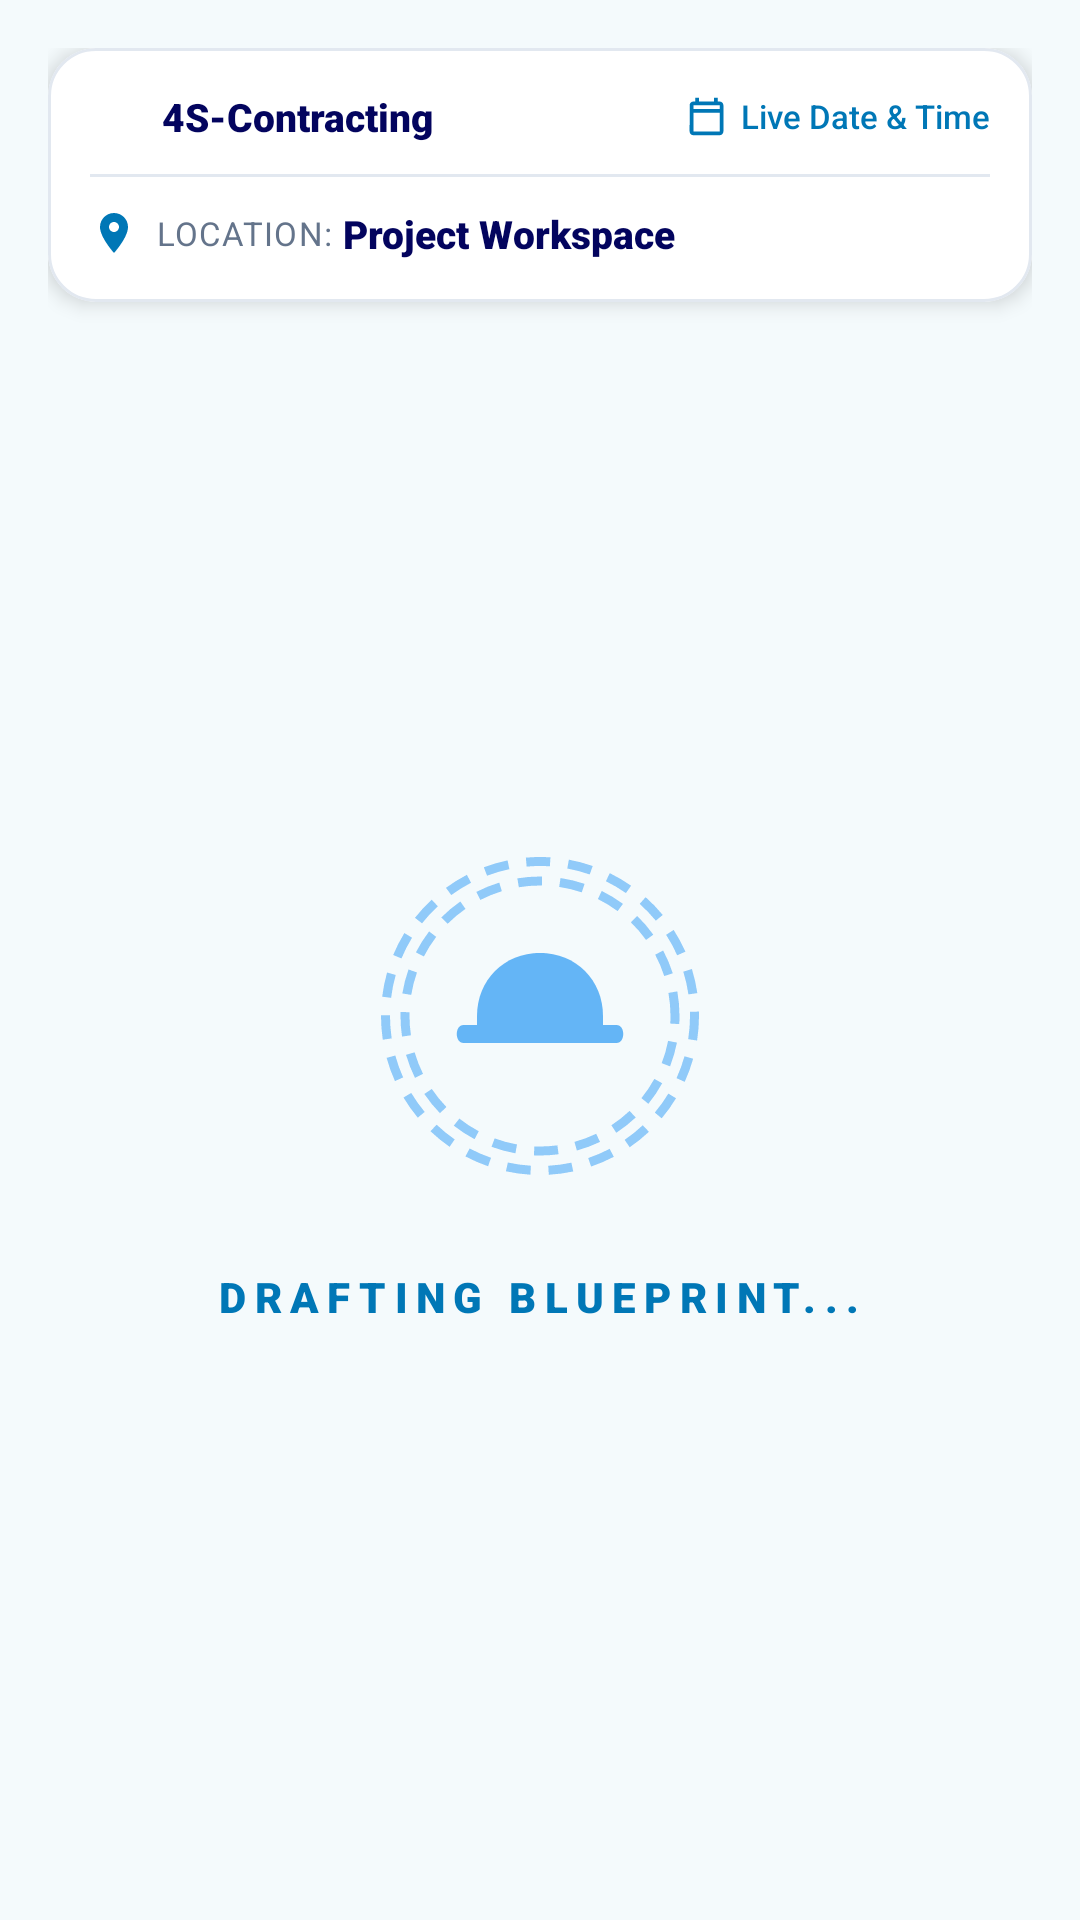

Icons on this 1080w x 1920h Android screen, each with the point to tap as [x,y]:
calendar today: [706,116]
